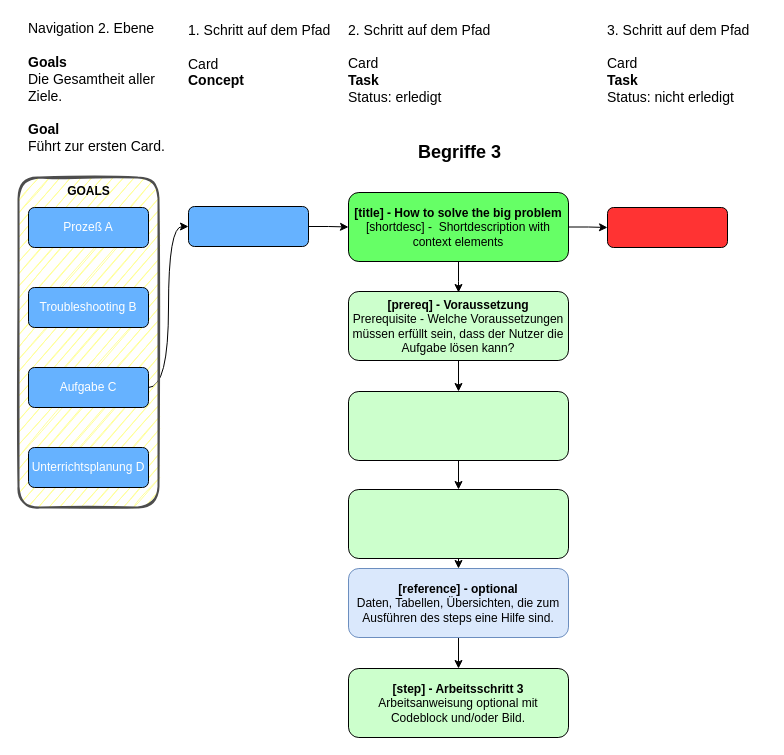
This 784x755 diagram has some shape labels left out. The centre of each missing label's shape, as x and y in pixels:
"[step] - Arbeitsschritt 1 Arbeitsanweisung optional mit Codeblock und/oder Bild." belongs at [458,425].
"[step] - Arbeitsschritt 2 Arbeitsanweisung optional mit Codeblock und/oder Bild." belongs at [458,523].
"Concept" belongs at [248,226].
"Task (nicht erledigt)" belongs at [667,227].
